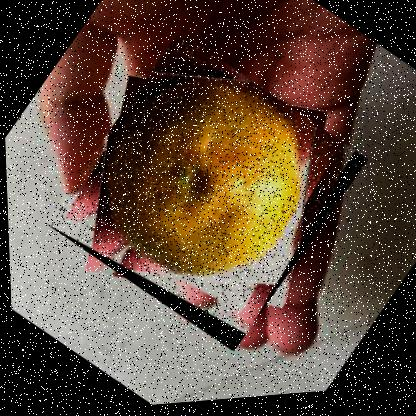orange: (37, 21, 372, 367)
